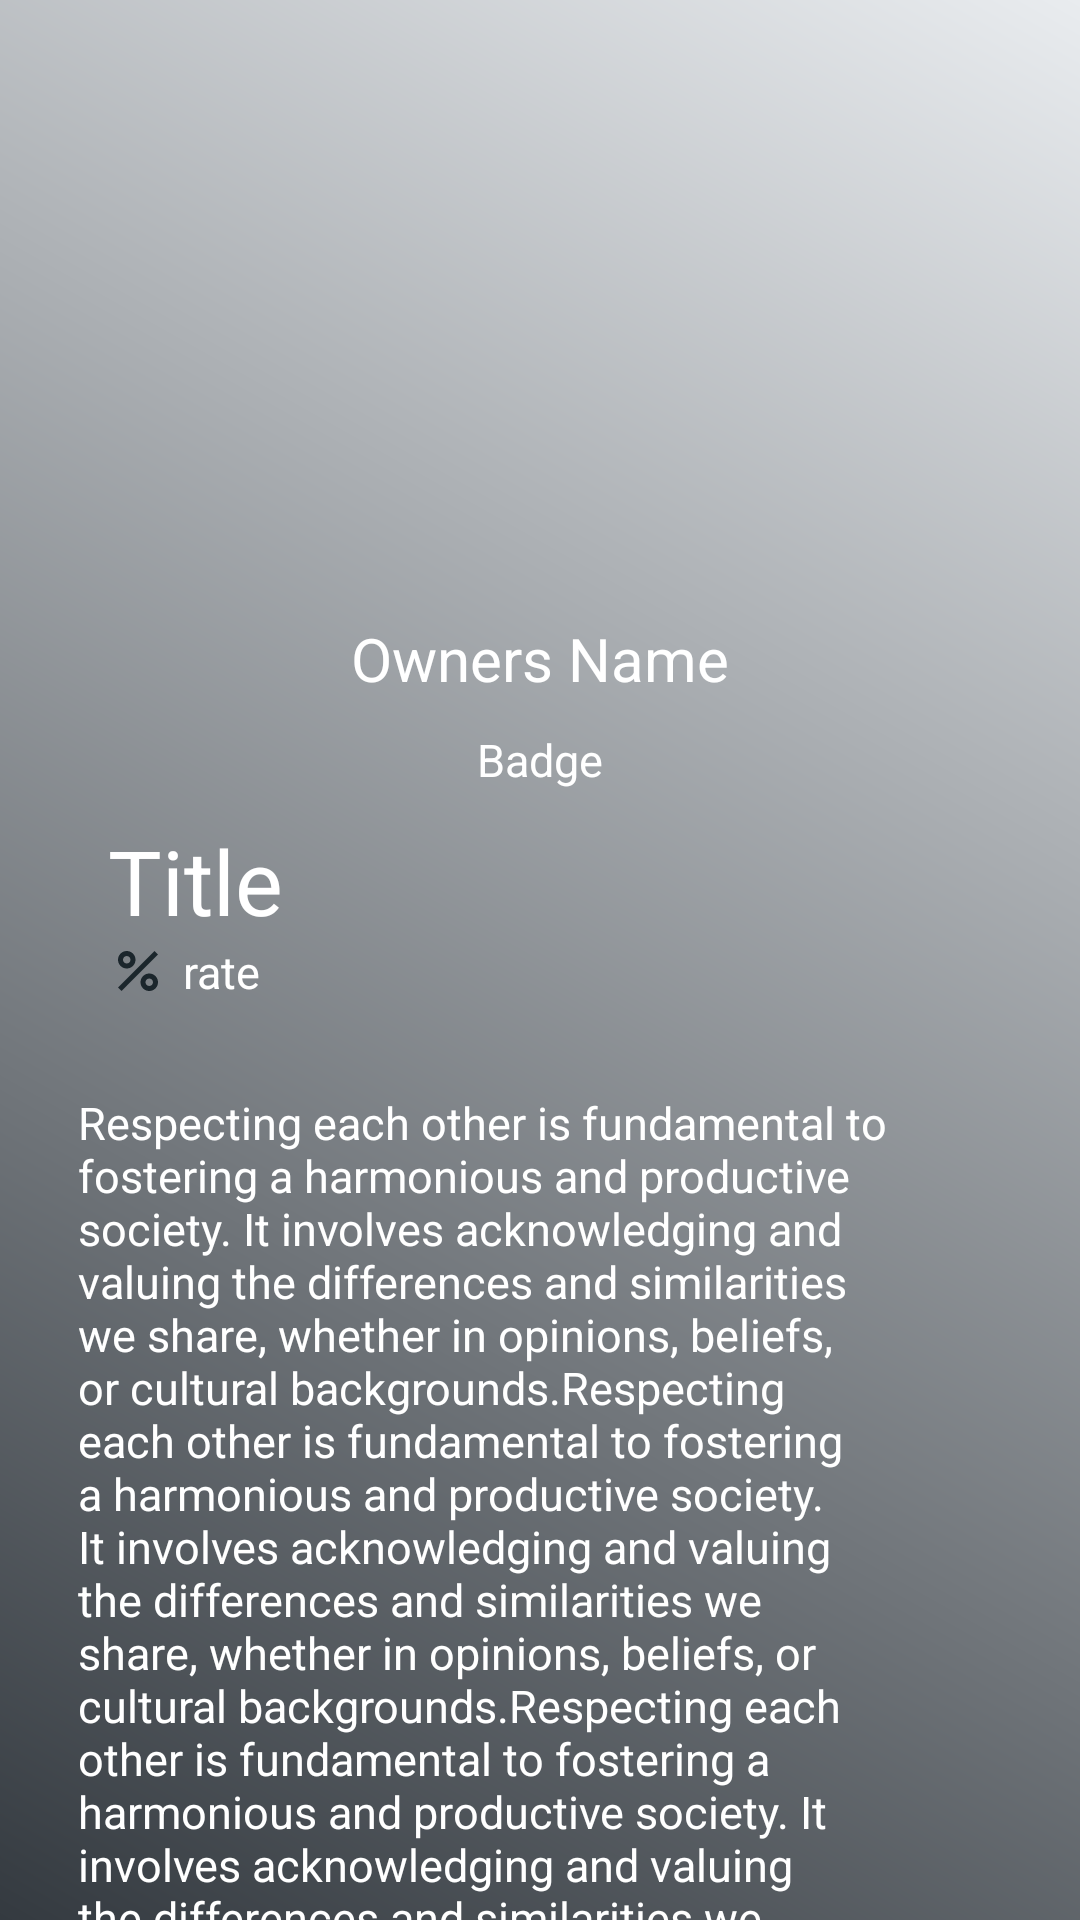

Named icons in this screenshot (1080w x 1920h) and their centers, point (x, y):
percent: point (138, 971)
